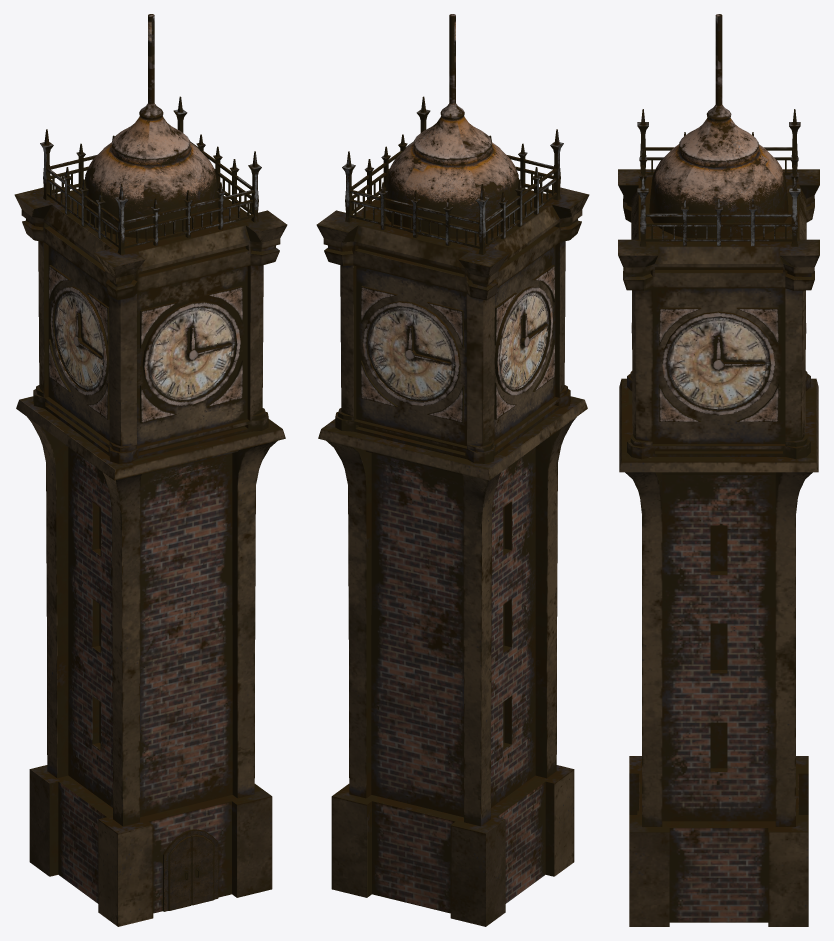
File: Clock Tower.fbx
3 views of the same model, side by side, from view 1: azimuth 30°, elevation 25°; view 2: azimuth 150°, elevation 25°; view 3: azimuth 270°, elevation 25° (orthographic).
Visible parts, largest first — view 1: Sphere.001, Cube.009, Cube.002; view 2: Sphere.001; view 3: Sphere.001.
Part boxes in pixels (bbox=[...]): Sphere.001: bbox=[14, 14, 287, 926]; Cube.009: bbox=[168, 836, 191, 910]; Cube.002: bbox=[191, 834, 214, 905]; Sphere.001: bbox=[316, 14, 589, 926]; Sphere.001: bbox=[618, 14, 819, 926].
Bounding box in the file's own units: 678 × 3203 × 671.
